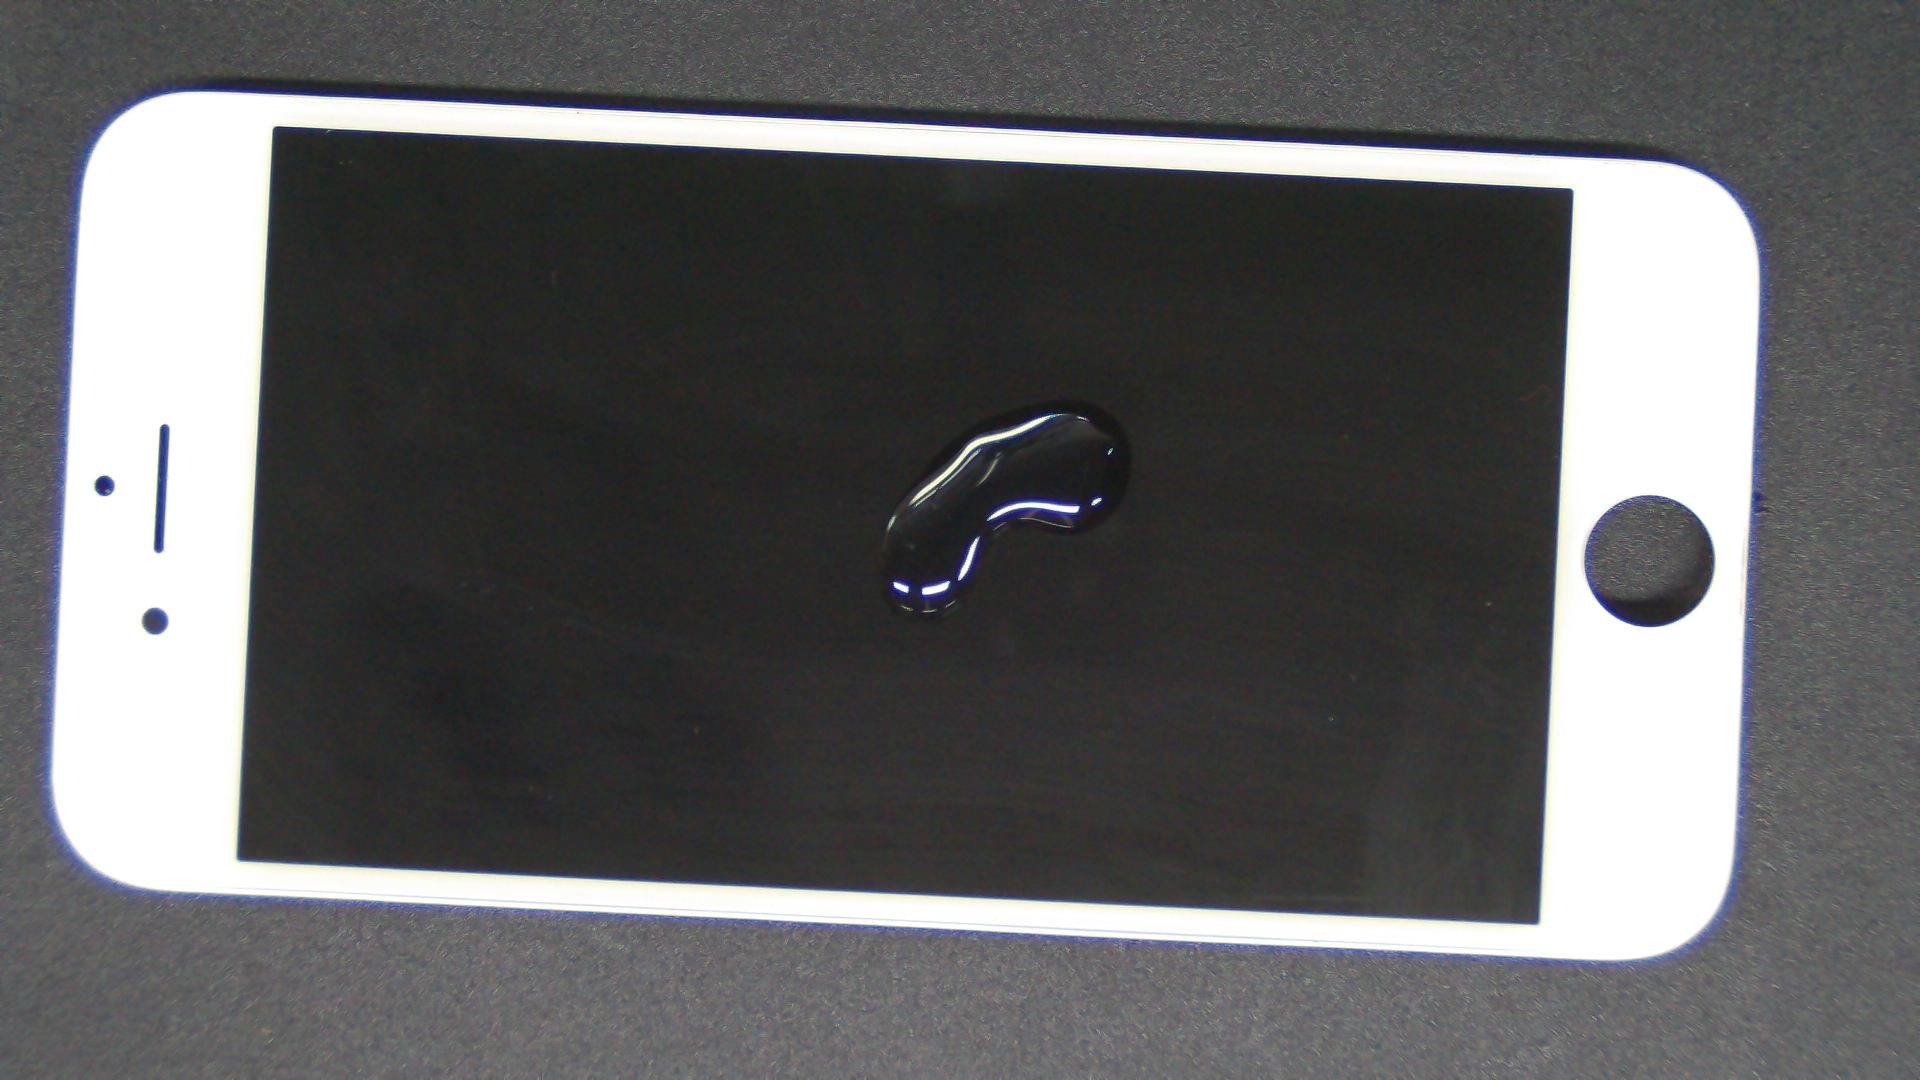oil: (538, 199, 1614, 599)
